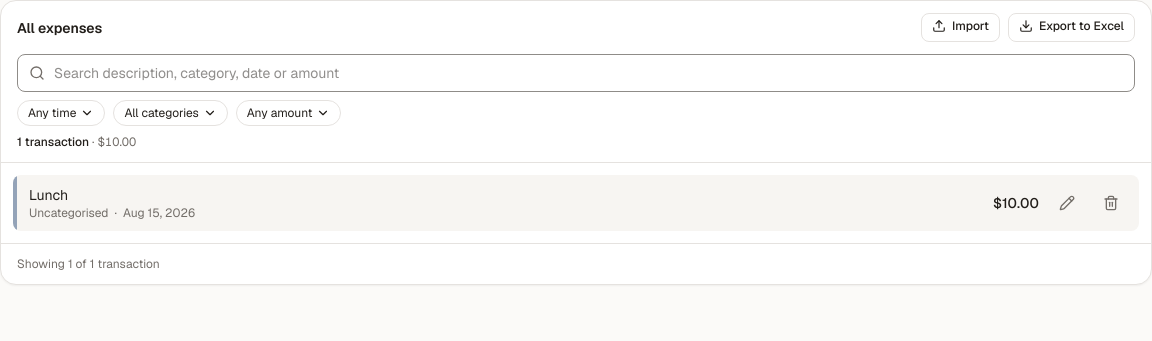
Scenario: AllExpenses › offers a way out when nothing matches
Check: the text "1 transaction" is shown, box top-left (17, 134), bottom-right (89, 150)
Type "zzz" into the search field named "Search transactions" at (576, 73), box top-left (17, 54), bottom-right (1135, 92)
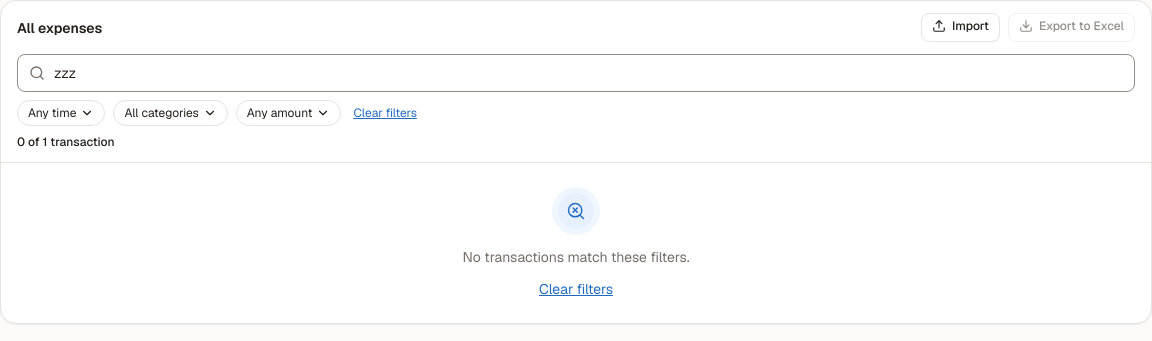
Check: the text "No transactions match these filters." is shown, box top-left (462, 247), bottom-right (690, 267)
Click the button "Clear filters" below "No transactions match these filters." at (576, 289), box top-left (539, 279), bottom-right (613, 299)
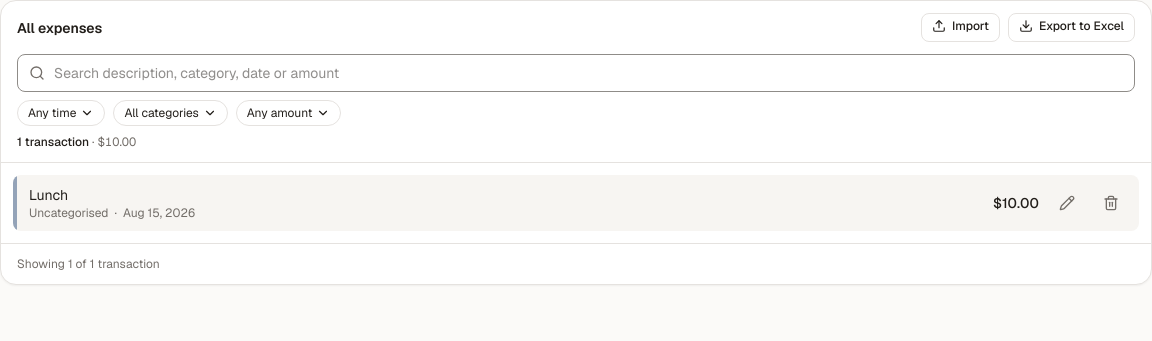
Check: the text "Lunch" is shown, box top-left (29, 186), bottom-right (68, 204)
